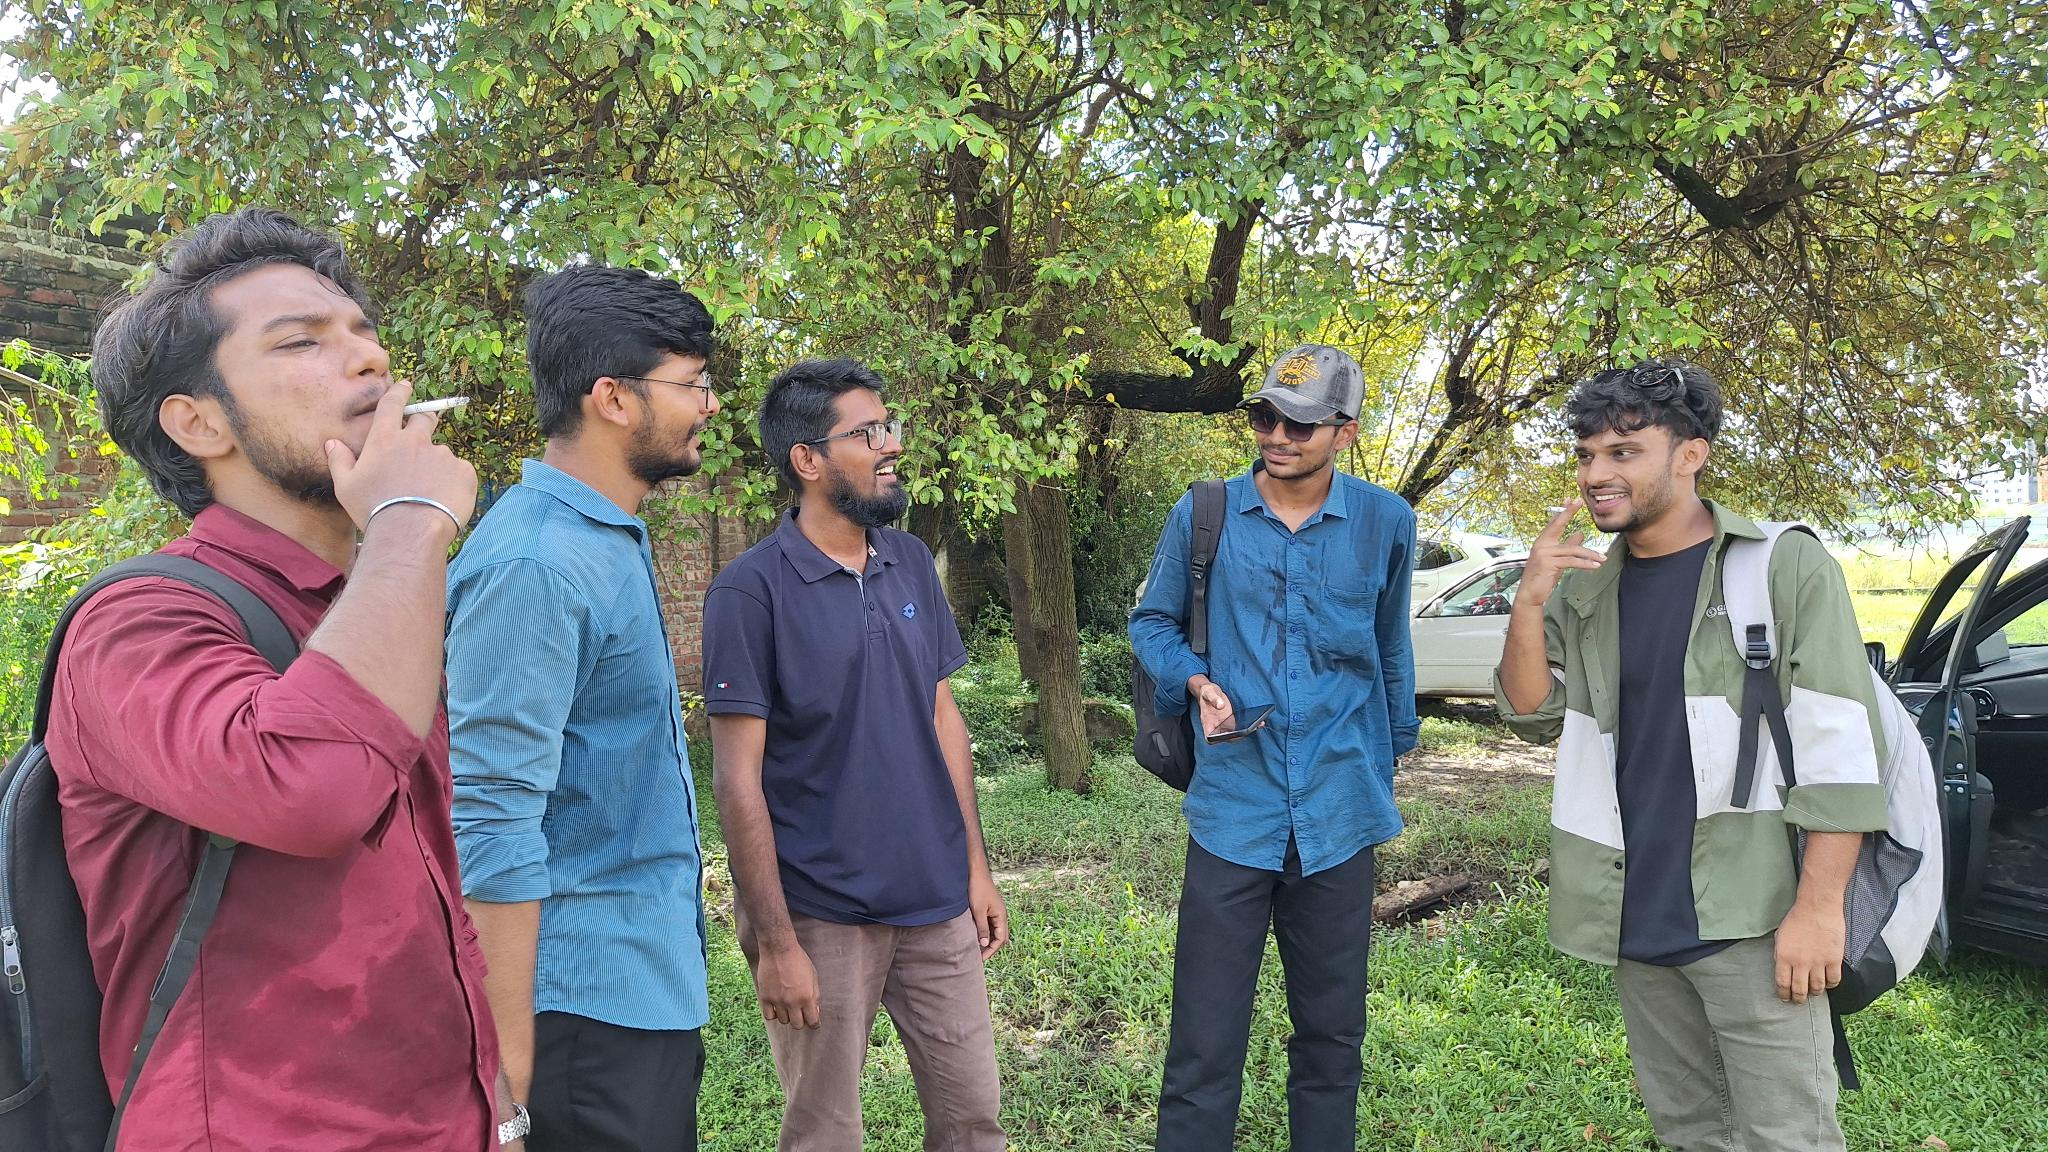cigarette: (398, 391, 474, 425), (1544, 504, 1568, 515)
nonSmoker: (446, 263, 722, 1152), (703, 359, 1011, 1152), (1129, 346, 1421, 1152)
smoker: (0, 210, 532, 1152), (1498, 360, 1944, 1152)
